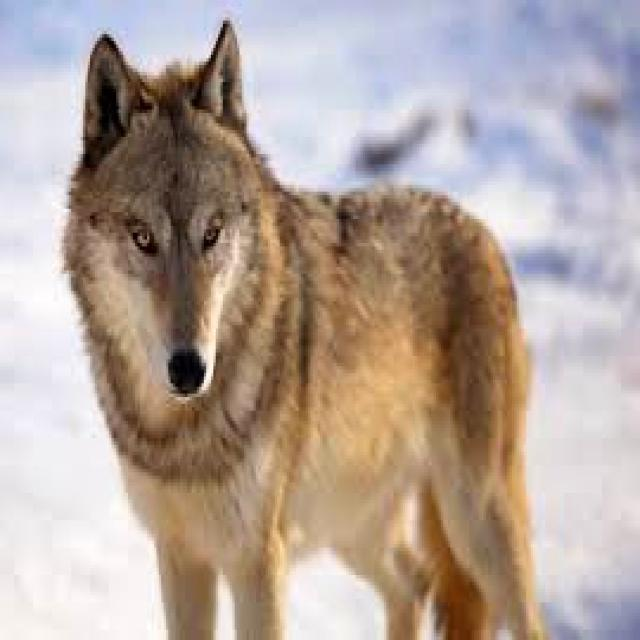wolf: (60, 21, 543, 637)
